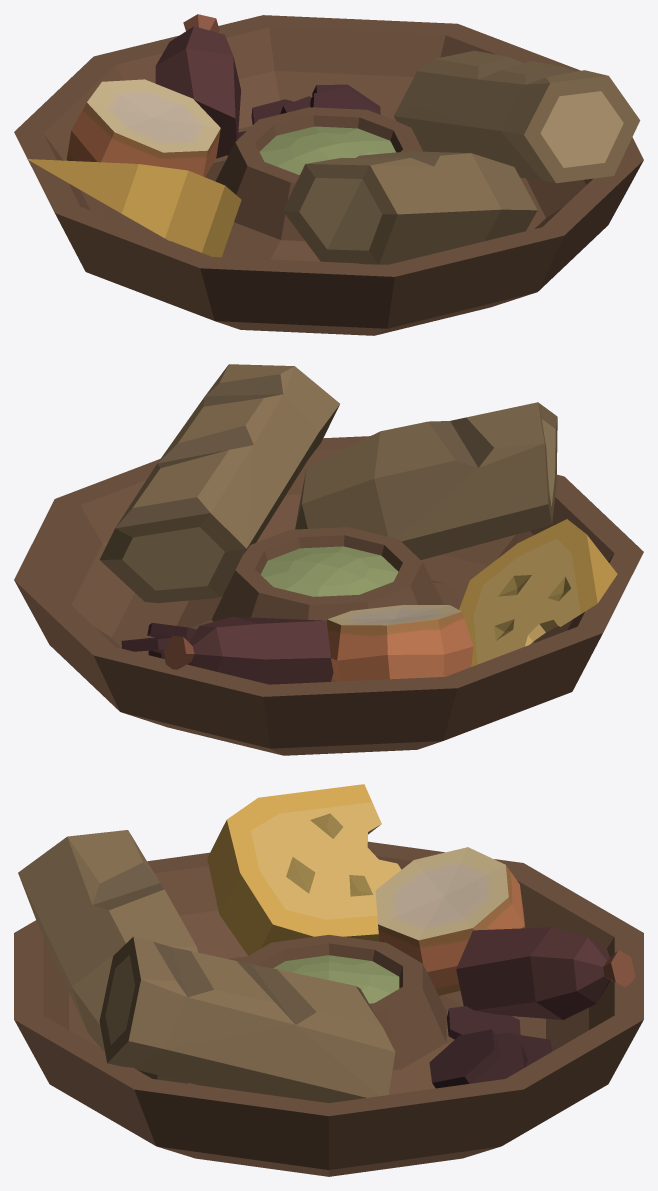
File: kingdom_SM_Item_Food_Bowl_02.gltf
The picture shows the model from 3 angles, top to bottom: view 1: azimuth 30°, elevation 25°; view 2: azimuth 150°, elevation 25°; view 3: azimuth 270°, elevation 25°; orthographic projection. The views are drawn at different scales.
Visible parts, largest first — view 1: SM_Item_Food_Bowl_02; view 2: SM_Item_Food_Bowl_02; view 3: SM_Item_Food_Bowl_02.
Part boxes in pixels (box(x1,y1,x2,y2)): SM_Item_Food_Bowl_02: box(14, 14, 643, 335); SM_Item_Food_Bowl_02: box(14, 364, 643, 755); SM_Item_Food_Bowl_02: box(14, 784, 643, 1176).
Size of the model in its own units: 0.4571 by 0.1562 by 0.4259.
1 material, 1 textured.
